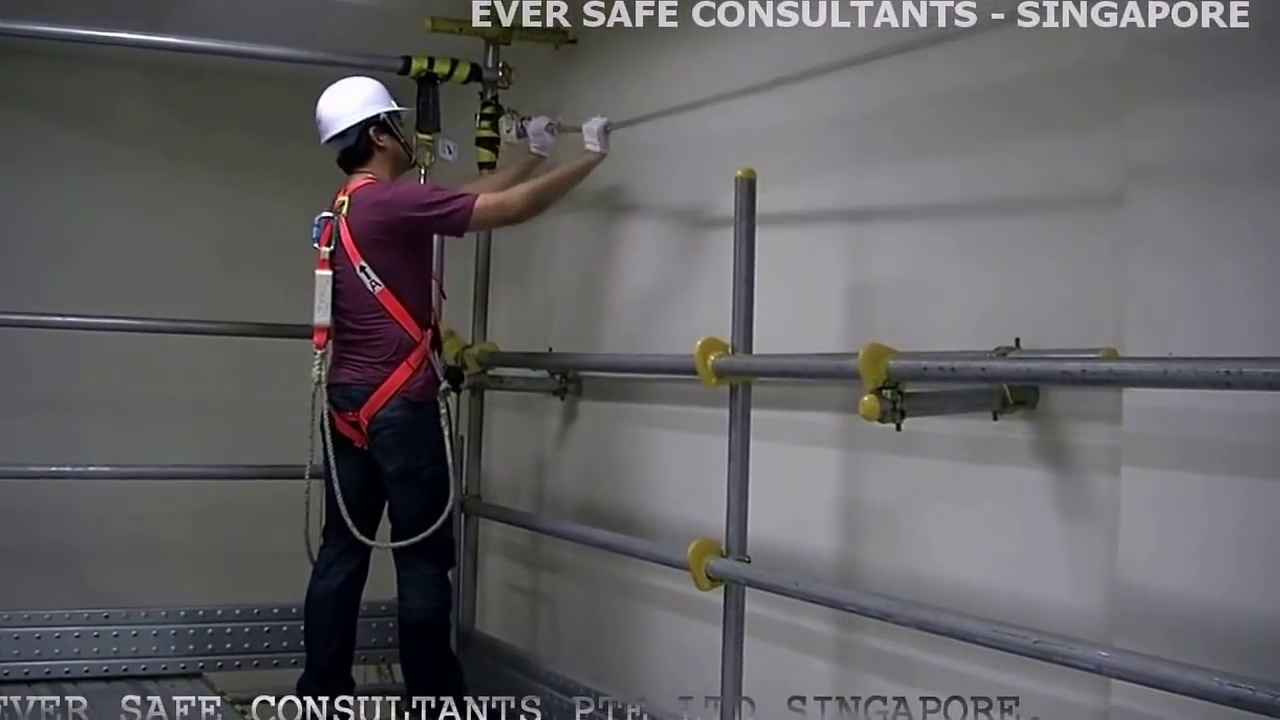harness: (299, 201, 448, 436)
helmet: (309, 74, 403, 126)
leash: (308, 443, 454, 561)
